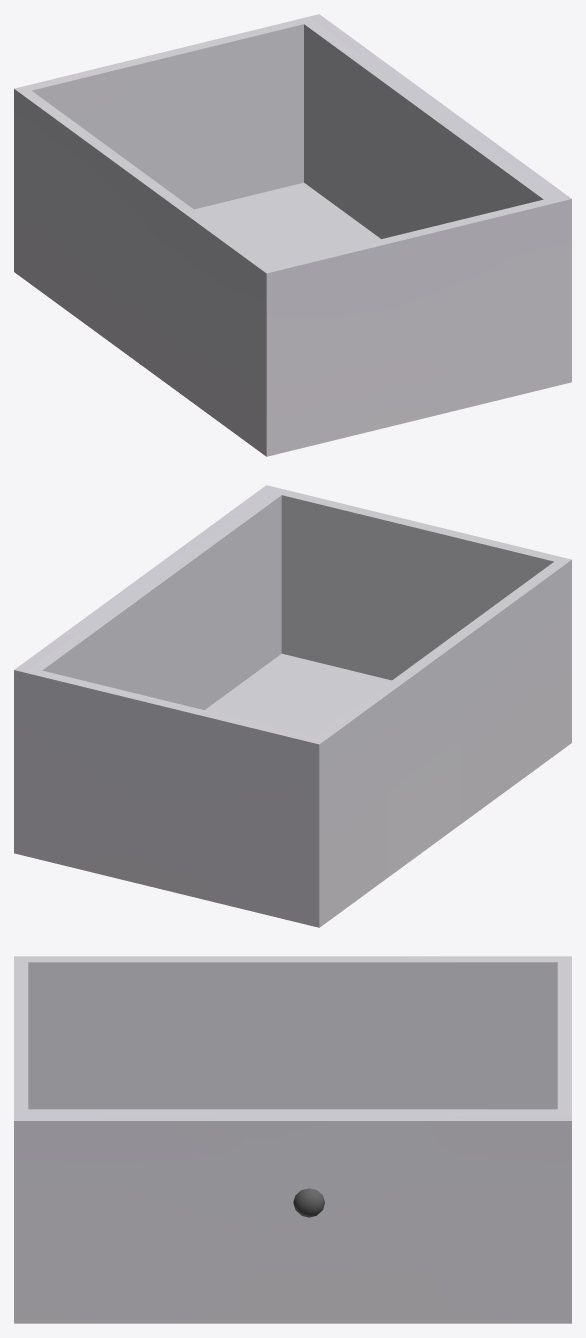
Rendered from chestOfDrawers_DrawerTop.glb.
The picture shows the model from 3 angles, top to bottom: view 1: azimuth 30°, elevation 25°; view 2: azimuth 150°, elevation 25°; view 3: azimuth 270°, elevation 25°; orthographic projection. The views are drawn at different scales.
Visible parts, largest first — view 1: RC_Furn_Dresser_Drawer1.001; view 2: RC_Furn_Dresser_Drawer1.001; view 3: RC_Furn_Dresser_Drawer1.001.
Part boxes in pixels (x1,y1,x2,y2): RC_Furn_Dresser_Drawer1.001: (14,14,571,456); RC_Furn_Dresser_Drawer1.001: (14,485,571,927); RC_Furn_Dresser_Drawer1.001: (14,956,571,1323).
Size of the model in its own units: 0.7216 by 0.3986 by 0.9953.
1 material, 1 textured.
